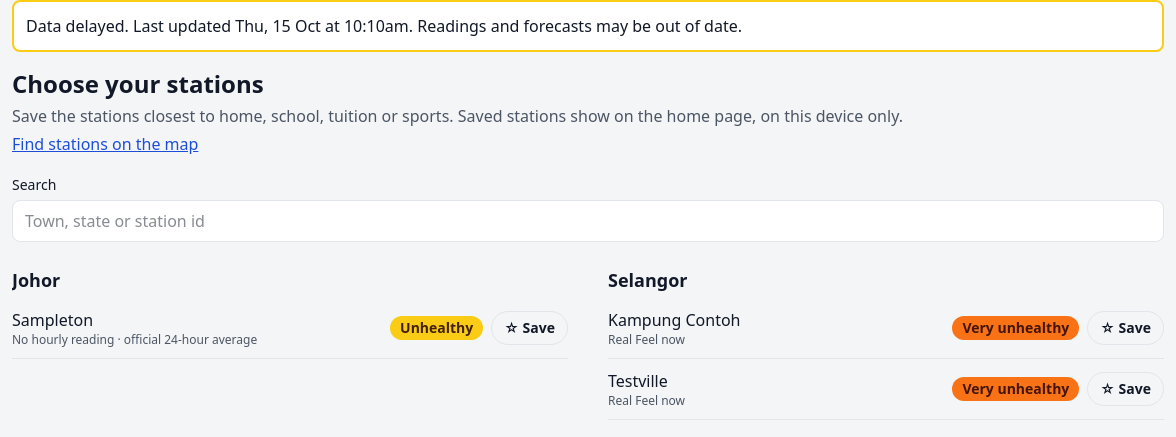
lists every station by state and narrows the list as you type
In the search field: (588, 221) left=12, top=200, right=1164, bottom=242, type "sample"
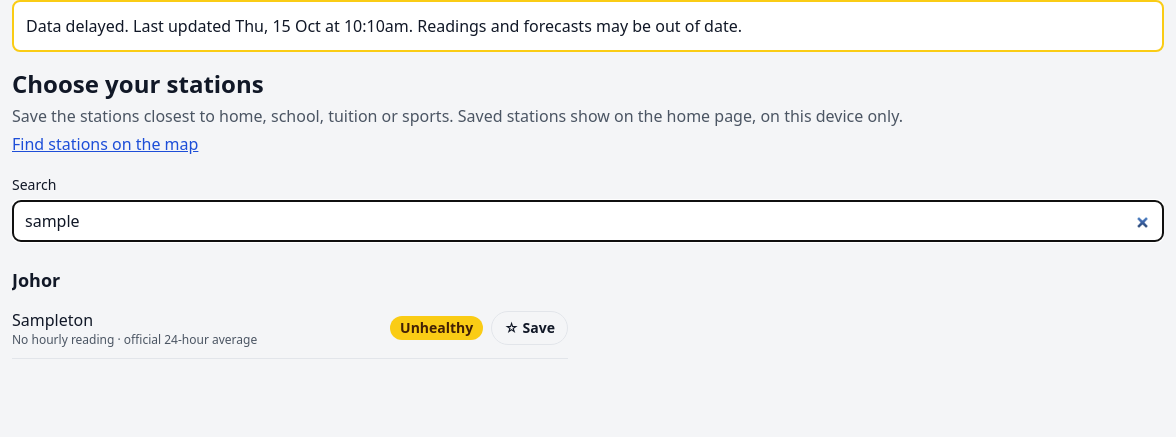
Check: the headings read "Johor", in this order, box left=12, top=268, right=60, bottom=292
Replace the text in the search field with "nowhere": (588, 221) left=12, top=200, right=1164, bottom=242
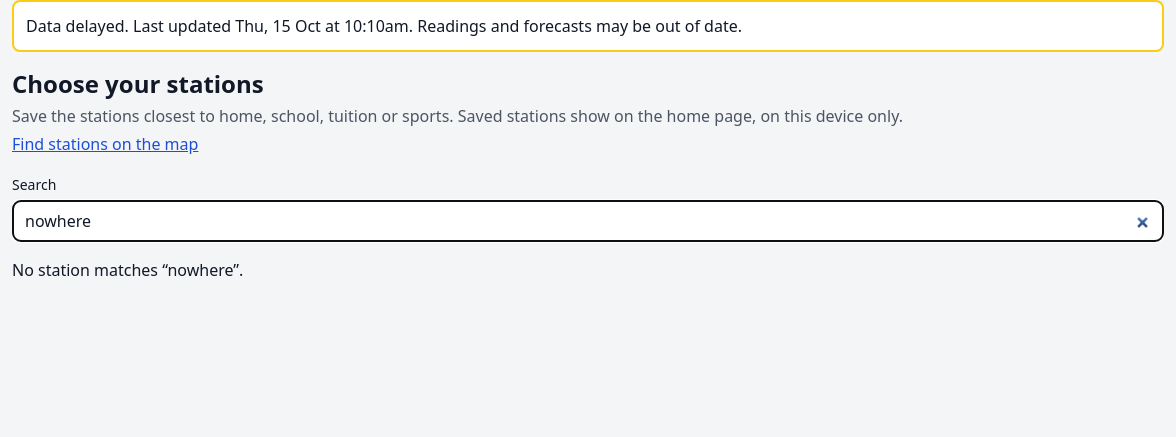
Check: the text "No station matches “nowhere”." is shown, box left=12, top=259, right=243, bottom=281
